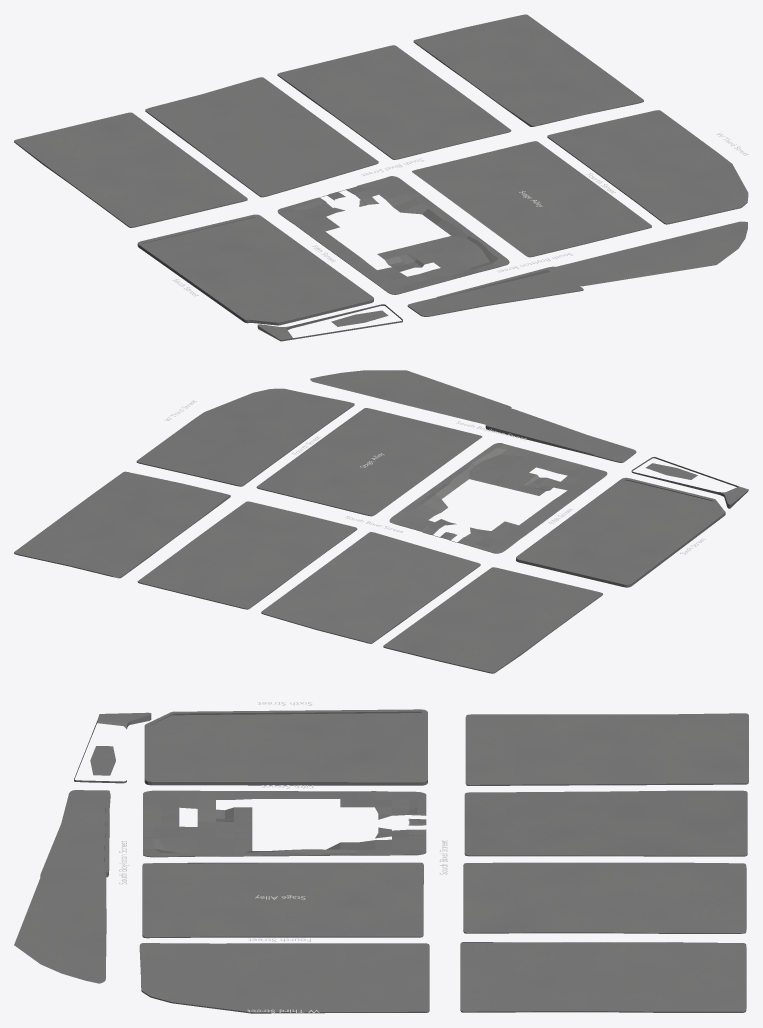
Rendered from hq sidewalk 2.glb.
3 renders of one model, top to bottom at view 1: azimuth 30°, elevation 25°; view 2: azimuth 150°, elevation 25°; view 3: azimuth 270°, elevation 25°, orthographic. The views are drawn at different scales.
Visible parts, largest first — view 1: HQ sidewalk; view 2: HQ sidewalk; view 3: HQ sidewalk.
Part boxes in pixels (left/top/right/bottom): HQ sidewalk: left=14, top=14, right=748, bottom=341; HQ sidewalk: left=14, top=370, right=748, bottom=673; HQ sidewalk: left=14, top=702, right=748, bottom=1013.
Bounding box in the file's own units: 24.9 × 0.6601 × 23.88.
1 material, 1 textured.
